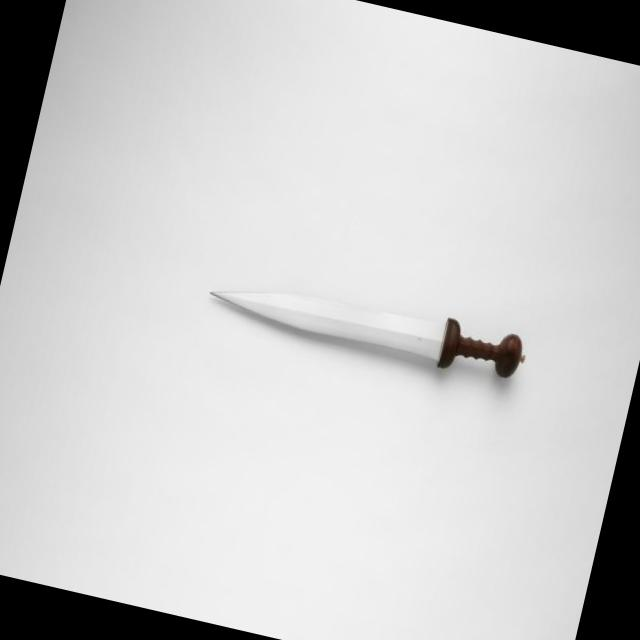Knife: (211, 292, 522, 376)
